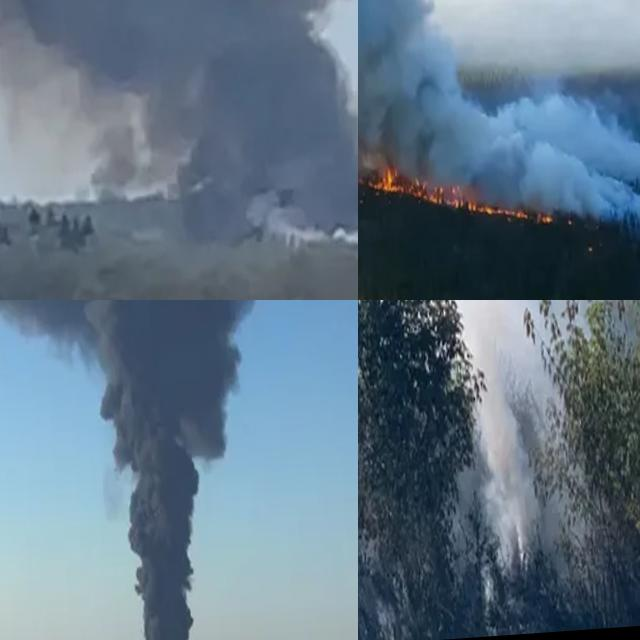smoke: (0, 0, 358, 268), (52, 300, 290, 640), (358, 0, 640, 262), (415, 300, 584, 551)
